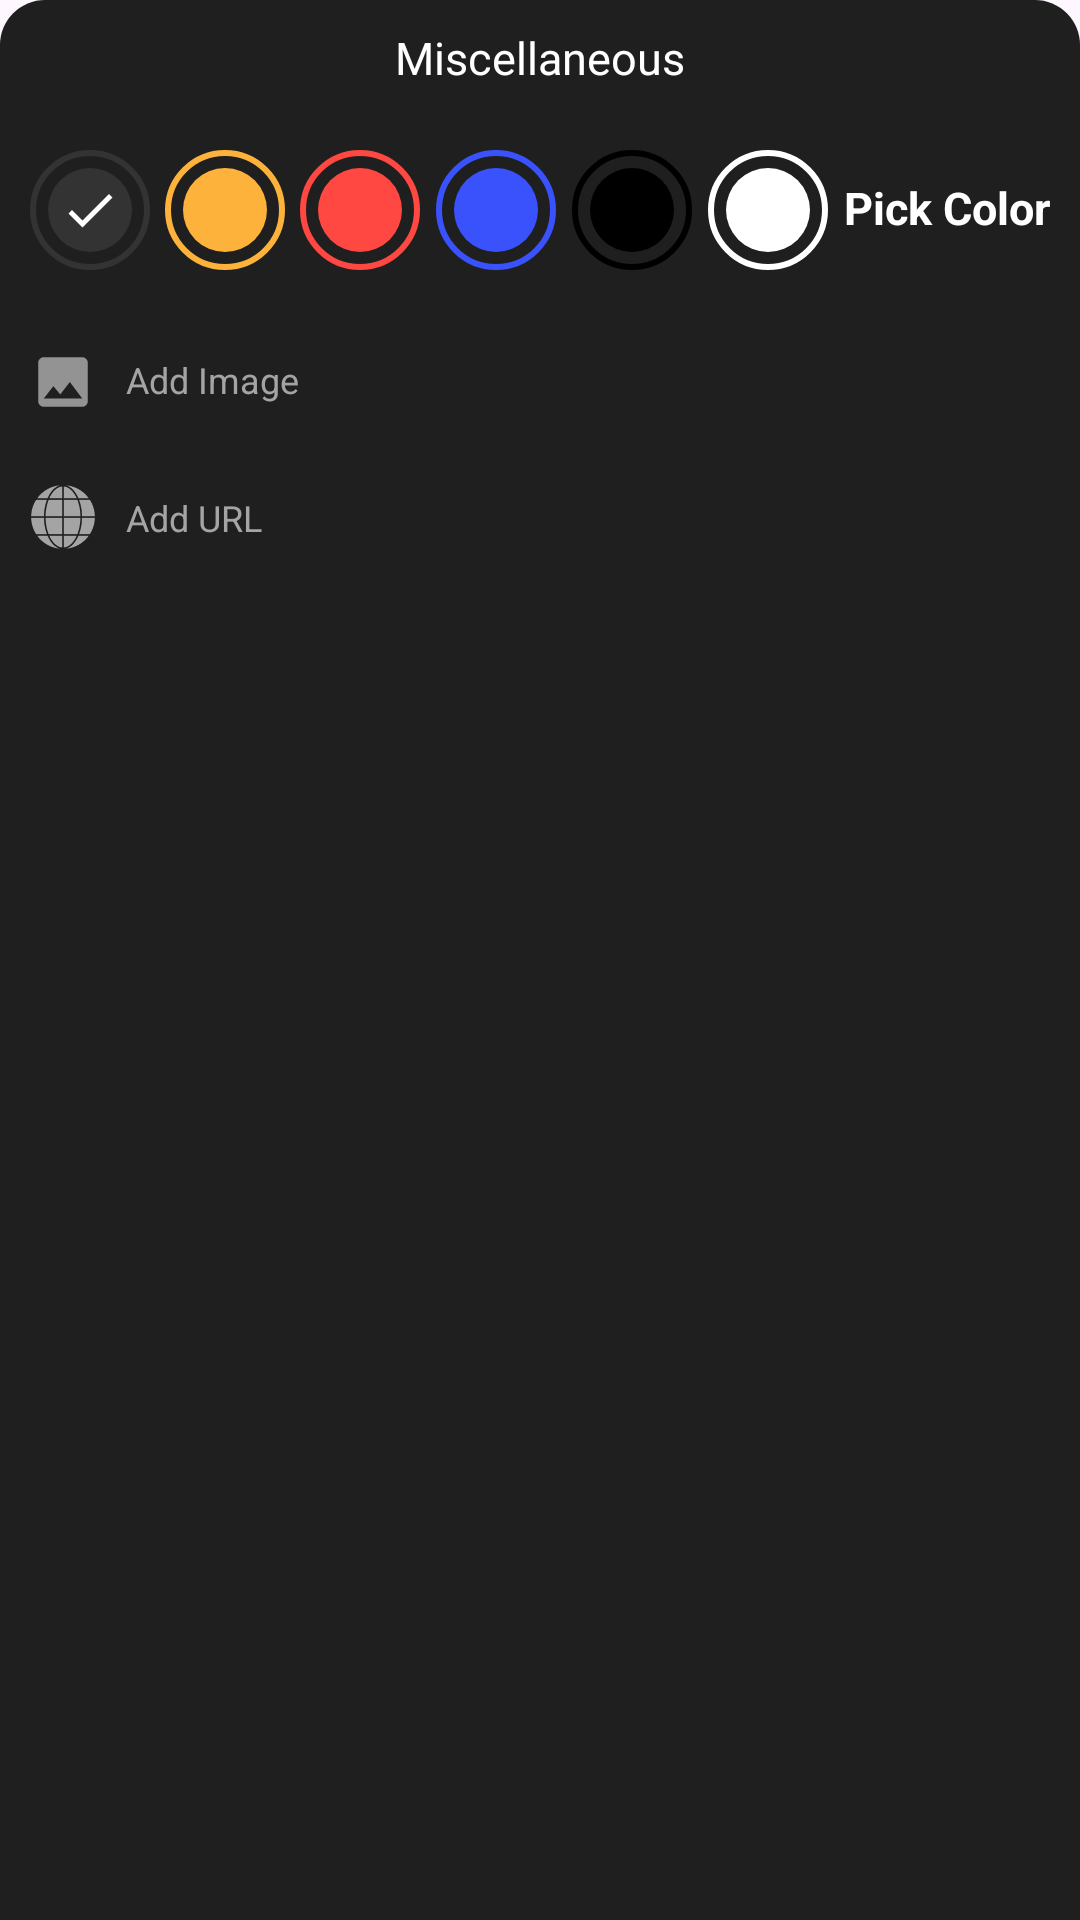

Screen size 1080×1920. Icon name, then its center in pixels as (x=x, y=y):
browser: (x=63, y=517)
done: (x=90, y=211)
